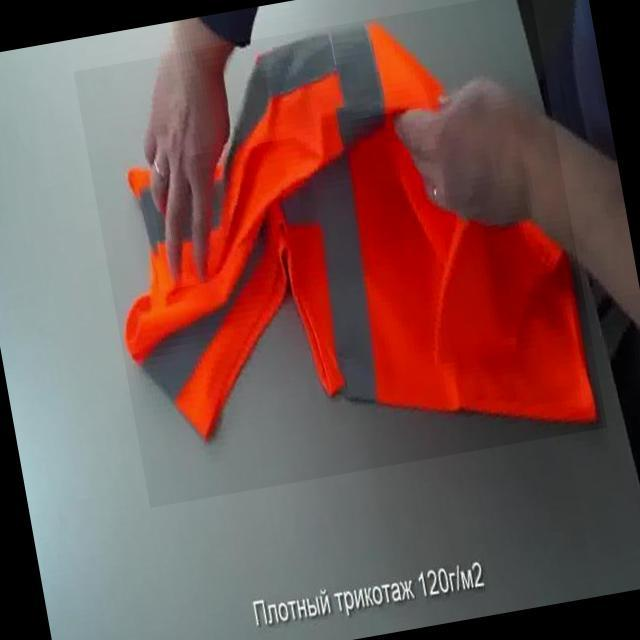Safety Vest: (73, 0, 607, 507)
bare-arms: (386, 65, 546, 234), (139, 29, 239, 288)
